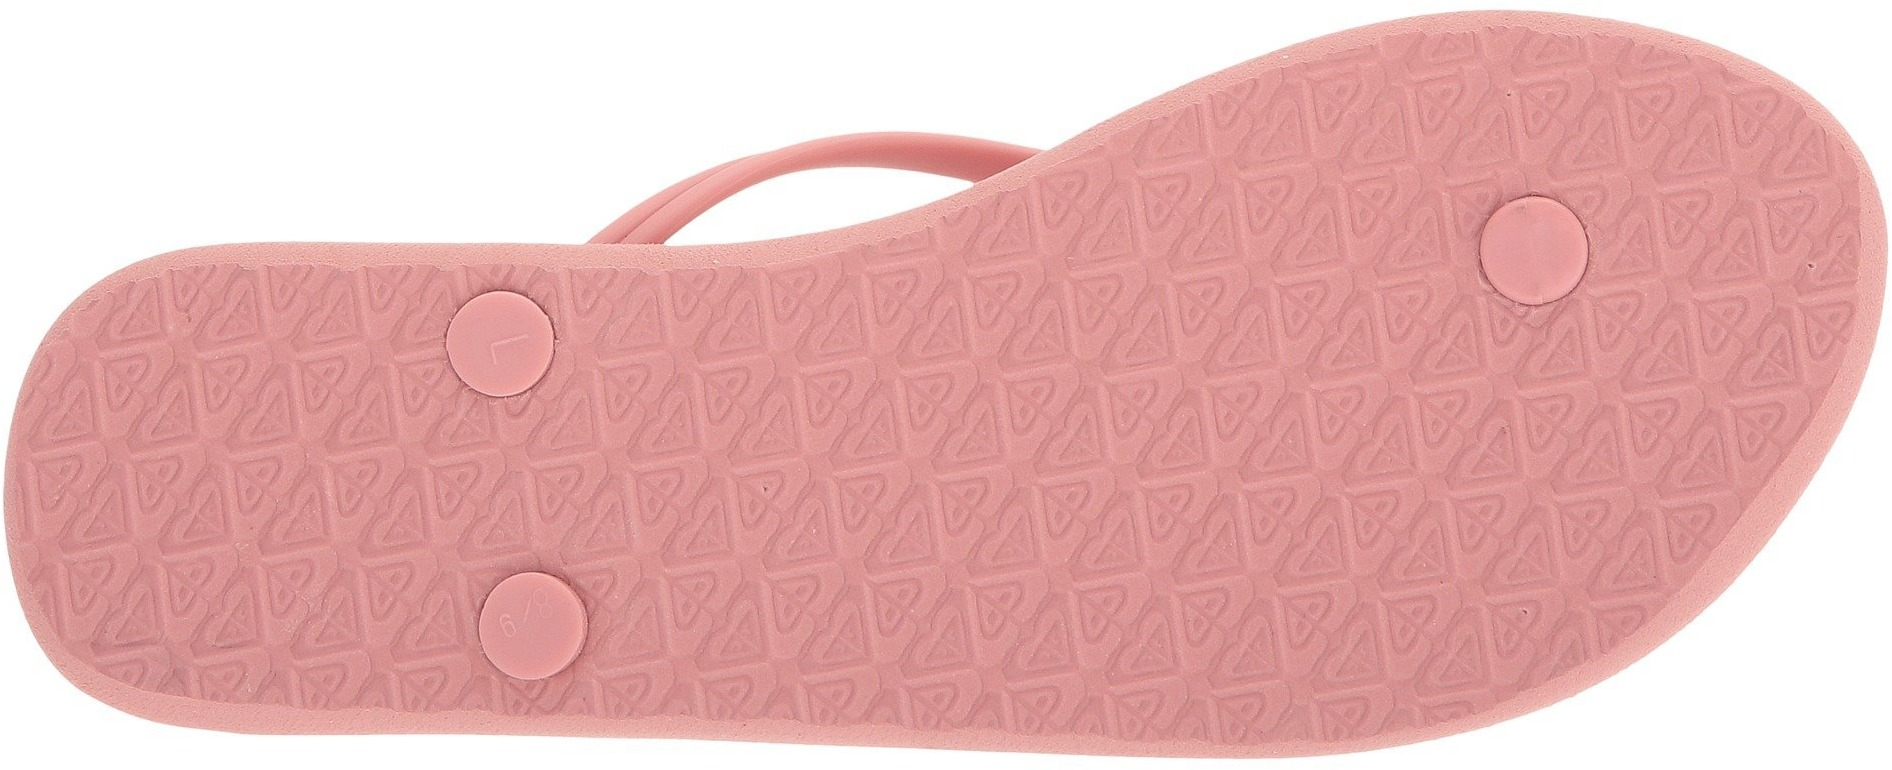chevron: (617, 250, 1085, 712), (1070, 294, 1484, 679), (88, 311, 440, 644), (1217, 74, 1452, 305), (1459, 316, 1689, 521)
circle: (1467, 182, 1604, 319), (466, 561, 598, 692), (437, 282, 565, 406)
triangle: (617, 250, 1085, 712), (1070, 294, 1484, 679), (88, 311, 440, 644), (1217, 74, 1452, 305), (1459, 316, 1689, 521)
